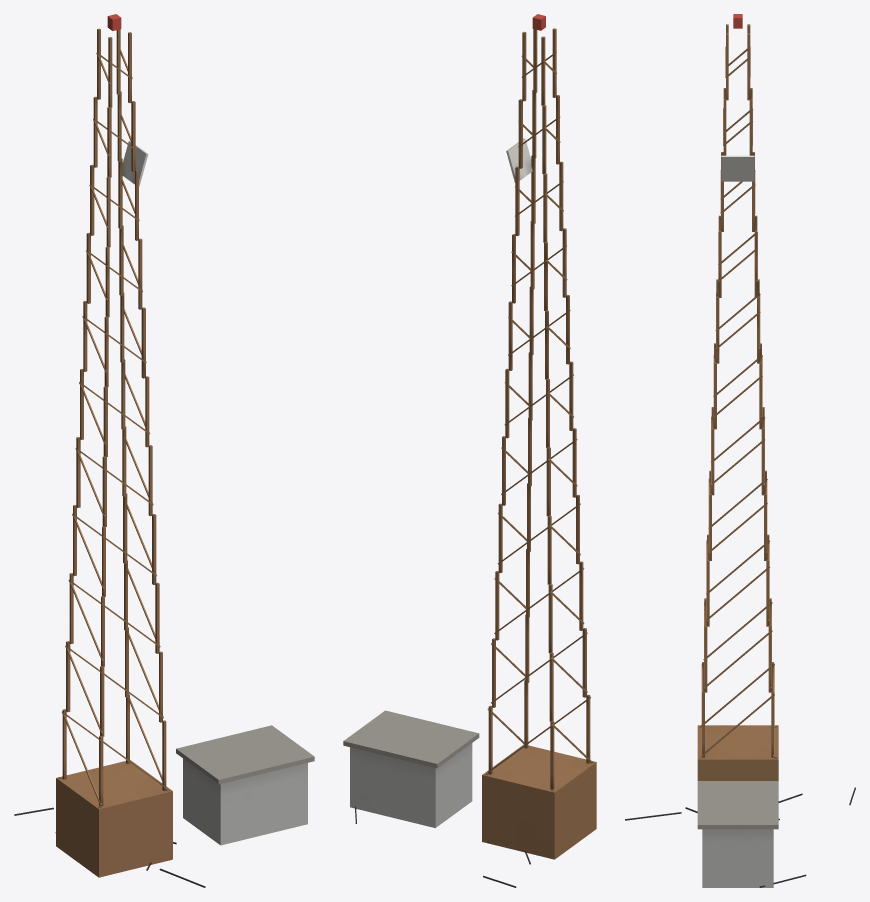
Rendered from antena.glb.
3 renders of one model, left to right at view 1: azimuth 30°, elevation 25°; view 2: azimuth 150°, elevation 25°; view 3: azimuth 270°, elevation 25°, orthographic. The views are drawn at different scales.
Visible parts, largest first — view 1: antena_torre, antena_casinha, antena_pe, antena_prato; view 2: antena_torre, antena_casinha, antena_pe, antena_prato; view 3: antena_torre, antena_casinha, antena_pe, antena_prato.
Boxes of the visible parts, bbox=[...] form: antena_torre: bbox=[58, 28, 169, 860]; antena_casinha: bbox=[176, 725, 314, 845]; antena_pe: bbox=[56, 760, 172, 877]; antena_prato: bbox=[121, 141, 148, 186]; antena_torre: bbox=[484, 28, 594, 791]; antena_casinha: bbox=[343, 710, 479, 827]; antena_pe: bbox=[482, 744, 596, 859]; antena_prato: bbox=[506, 138, 532, 182]; antena_torre: bbox=[699, 24, 777, 758]; antena_casinha: bbox=[697, 781, 778, 887]; antena_pe: bbox=[697, 725, 778, 780]; antena_prato: bbox=[721, 155, 754, 181].
Size of what is drawn, in the model's own units: 9.95 by 36.7 by 9.69.
